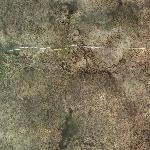dead: (1, 1, 145, 148)
